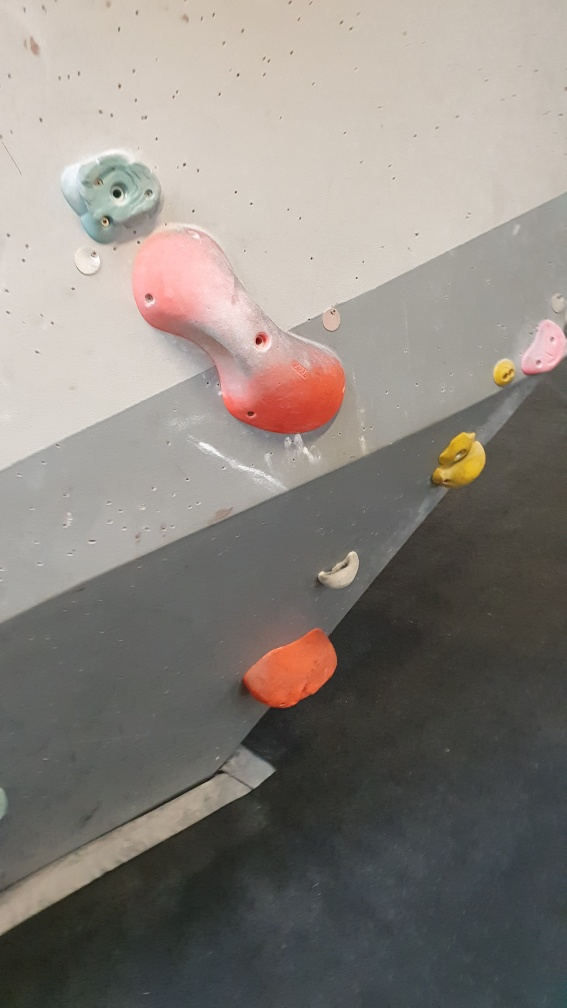Pinch: (131, 228, 345, 434)
